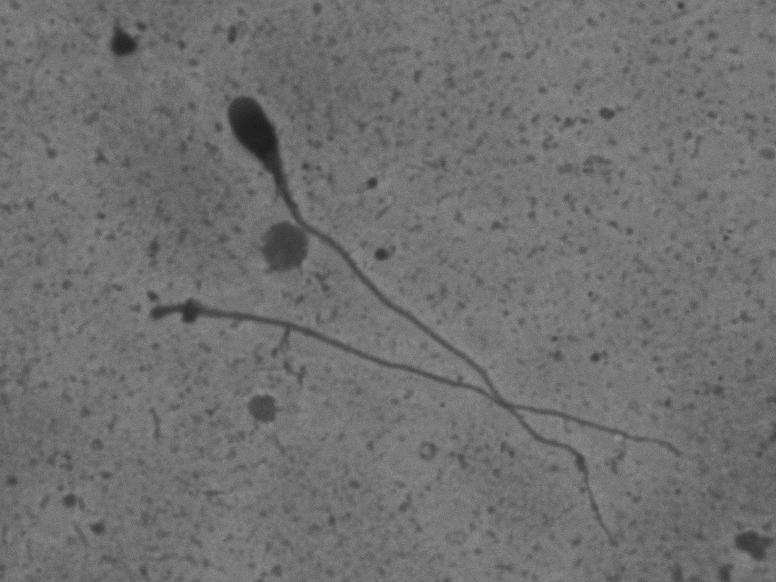Abnormal: (214, 83, 631, 553)
